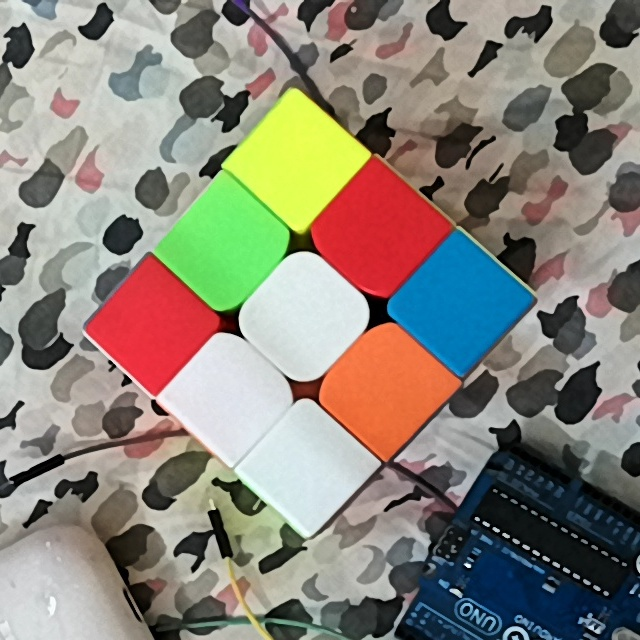tile: (338, 194, 413, 271), (421, 268, 497, 339), (351, 349, 422, 423), (189, 207, 254, 283), (195, 360, 264, 431), (266, 282, 337, 350), (275, 432, 342, 502), (121, 291, 188, 361), (260, 131, 328, 198)
